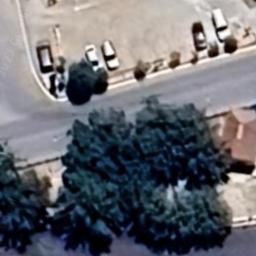SUV: (211, 6, 233, 42), (100, 39, 122, 70)
pickup: (192, 21, 210, 51)
sedan: (84, 44, 102, 72)
van: (35, 38, 55, 73)
